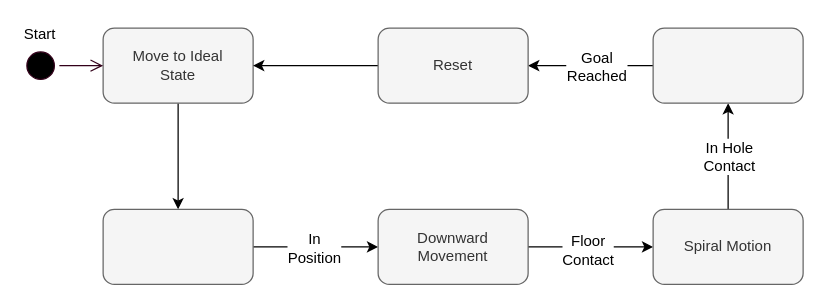
Some shapes in this 825 by 306 pixel diagram are drawn without their labels. Here are the shapes that lost their labels. From the top down, the box of each, then its label:
(652, 27, 803, 103): Insertion Wiggle
(102, 208, 253, 284): Move to Initial Position
